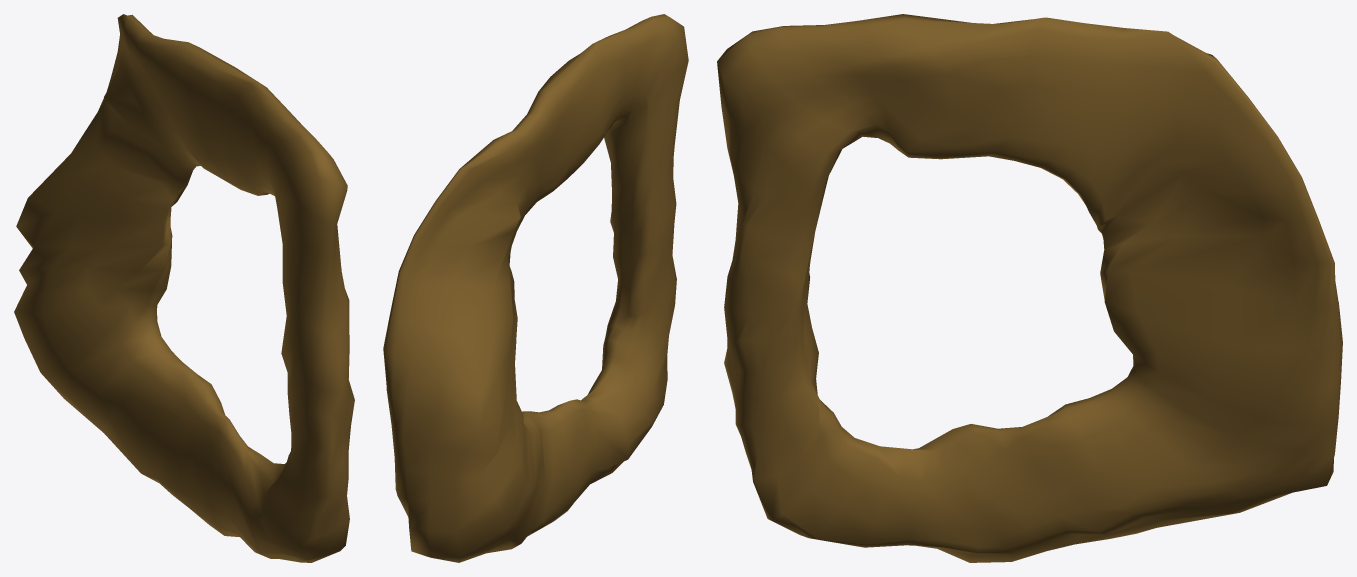
Rendered from doorframe.fbx.
3 views of the same model, side by side, from view 1: azimuth 30°, elevation 25°; view 2: azimuth 150°, elevation 25°; view 3: azimuth 270°, elevation 25° (orthographic). The views are drawn at different scales.
Parts seen in each view (by area): view 1: Torus; view 2: Torus; view 3: Torus.
Boxes of the visible parts, left/top/right/bottom form: Torus: left=14, top=14, right=354, bottom=562; Torus: left=383, top=14, right=688, bottom=562; Torus: left=717, top=14, right=1342, bottom=562.
Size of the model in its own units: 0.6938 by 2.98 by 3.12.
